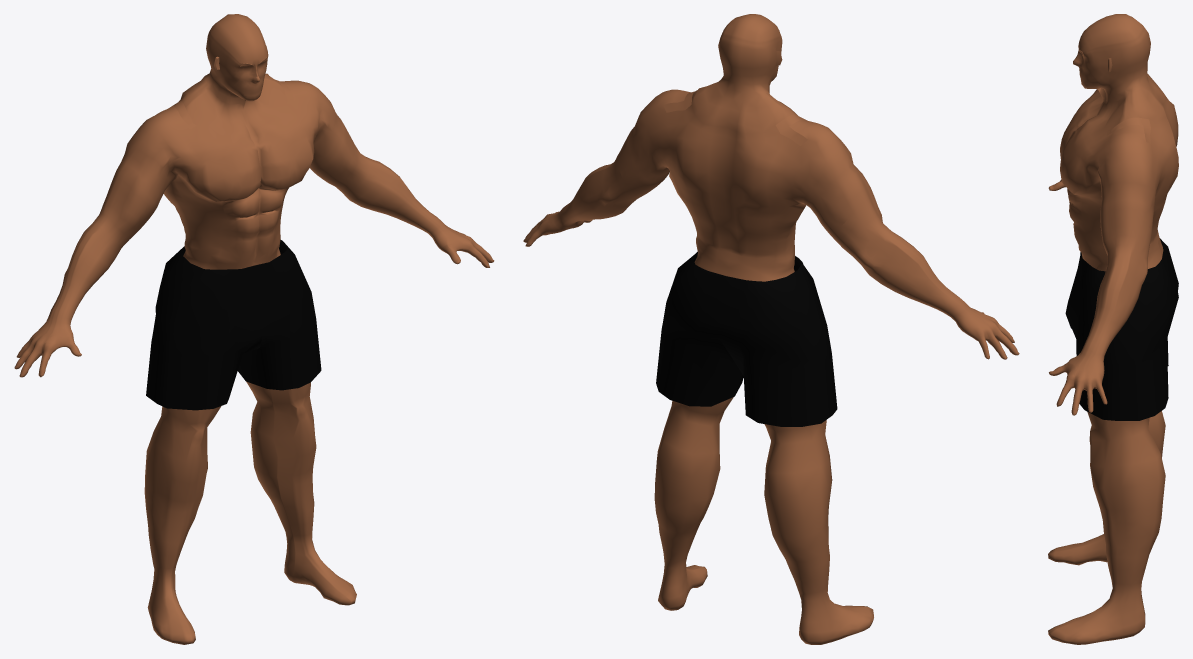
The model's file is macho.fbx.
3 views of the same model, side by side, from view 1: azimuth 30°, elevation 25°; view 2: azimuth 150°, elevation 25°; view 3: azimuth 270°, elevation 25° (orthographic). The views are drawn at different scales.
Parts seen in each view (by area): view 1: otoko, pants; view 2: otoko, pants; view 3: otoko, pants.
Part boxes in pixels (box(x1,y1,x2,y2)): otoko: box(14, 14, 494, 644); pants: box(146, 240, 321, 410); otoko: box(523, 14, 1019, 644); pants: box(656, 252, 837, 426); otoko: box(1048, 14, 1178, 644); pants: box(1065, 238, 1178, 420).
Bounding box in the file's own units: 167 × 196 × 39.86.
